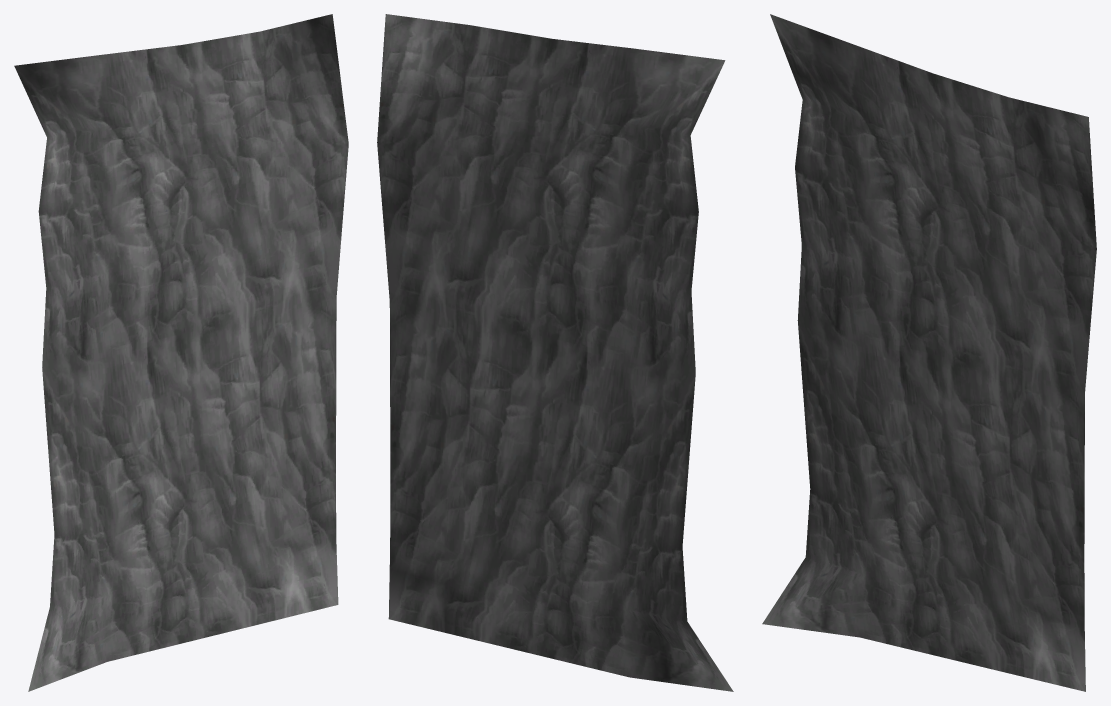
File: SWORDLIGHT20_PS-AREA01_29.fbx
3 renders of one model, left to right at view 1: azimuth 30°, elevation 25°; view 2: azimuth 150°, elevation 25°; view 3: azimuth 330°, elevation 25°, orthographic. The views are drawn at different scales.
Parts seen in each view (by area): view 1: SWORDLIGHT20_PS-AREA01_29; view 2: SWORDLIGHT20_PS-AREA01_29; view 3: SWORDLIGHT20_PS-AREA01_29.
Part boxes in pixels (x1,y1,x2,y2): SWORDLIGHT20_PS-AREA01_29: (14, 14, 348, 691); SWORDLIGHT20_PS-AREA01_29: (377, 14, 733, 691); SWORDLIGHT20_PS-AREA01_29: (762, 14, 1096, 691).
Size of the model in its own units: 49104 by 86535 by 4036.
1 material, 1 textured.
